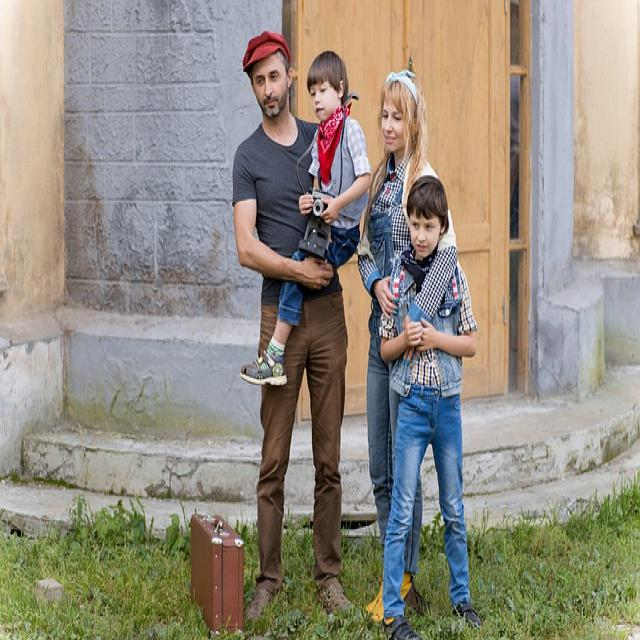adult: (231, 29, 351, 619), (357, 67, 458, 627)
child: (379, 174, 479, 638), (238, 50, 373, 389)
